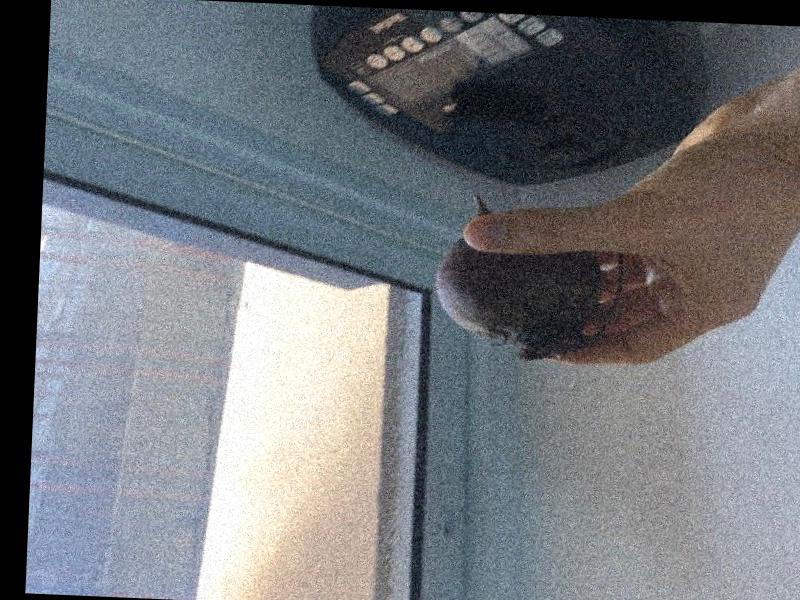Beet: (433, 194, 623, 364)
